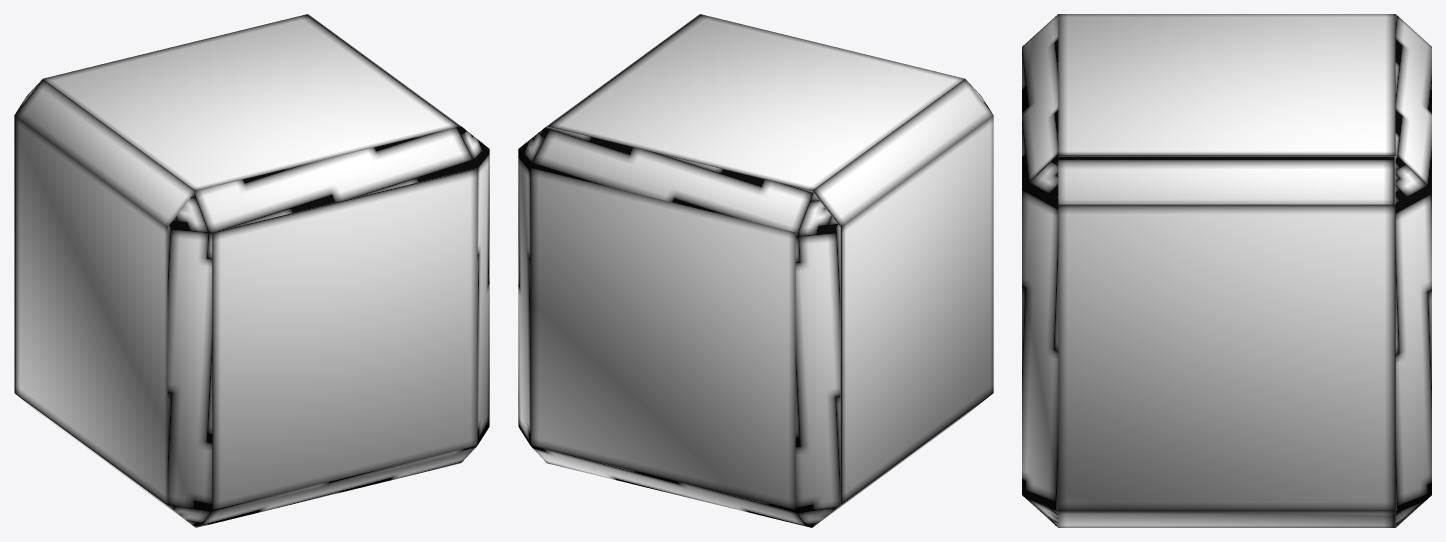
Rendered from Block.obj.
The picture shows the model from 3 angles, left to right: view 1: azimuth 30°, elevation 25°; view 2: azimuth 150°, elevation 25°; view 3: azimuth 270°, elevation 25°; orthographic projection. The views are drawn at different scales.
Visible parts, largest first — view 1: Cube1; view 2: Cube1; view 3: Cube1.
Boxes of the visible parts, box(x1,y1,x2,y2) form: Cube1: box(14, 14, 489, 527); Cube1: box(518, 14, 993, 527); Cube1: box(1022, 14, 1431, 527).
Bounding box in the file's own units: 2 × 2 × 2.
1 material, 1 textured.
